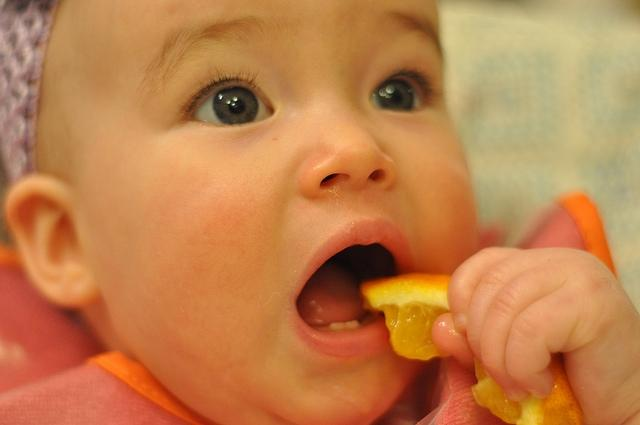orange: (360, 272, 583, 424)
